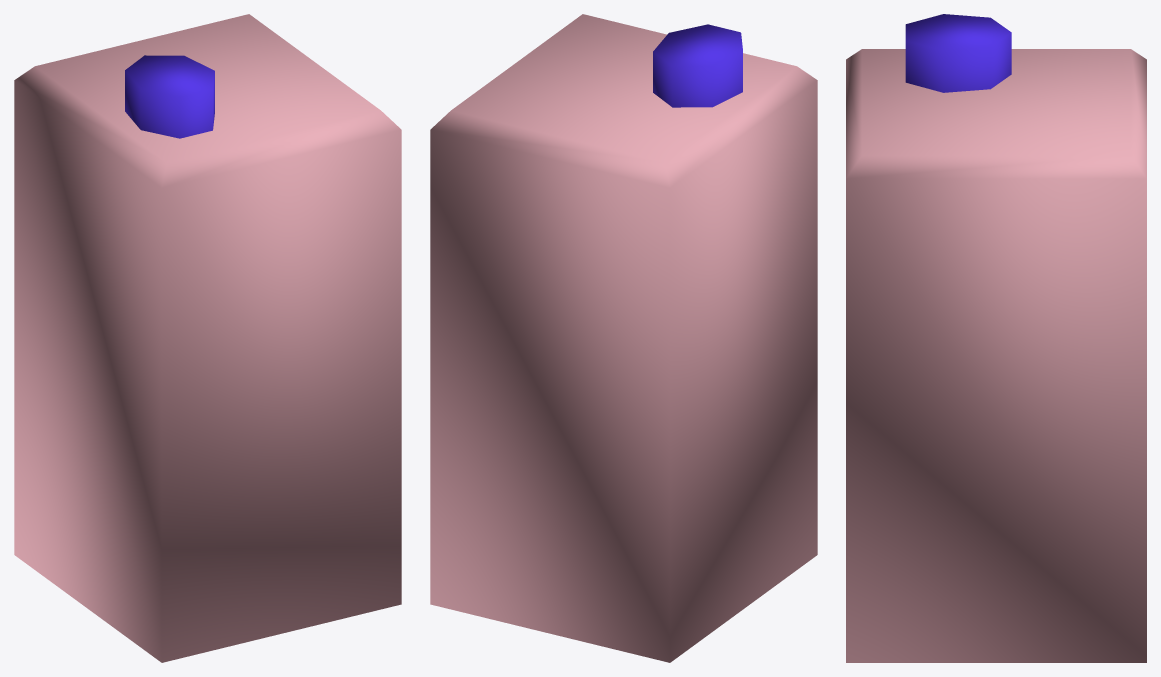
Rendered from succo_pesca_mini.fbx.
3 renders of one model, left to right at view 1: azimuth 30°, elevation 25°; view 2: azimuth 150°, elevation 25°; view 3: azimuth 270°, elevation 25°, orthographic.
Parts seen in each view (by area): view 1: pesca_mini; view 2: pesca_mini; view 3: pesca_mini.
Part boxes in pixels (box(x1,y1,x2,y2)): pesca_mini: box(14, 14, 401, 662); pesca_mini: box(430, 14, 817, 662); pesca_mini: box(846, 14, 1146, 662).
Size of the model in its own units: 66.34 by 141 by 70.7.
